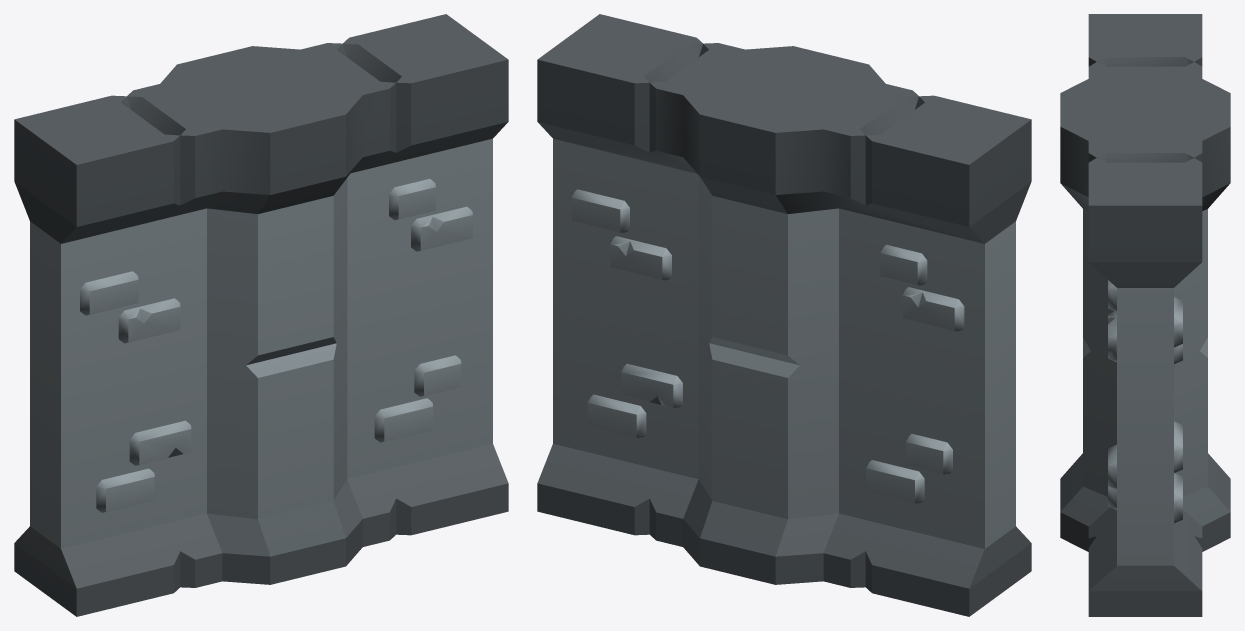
File: wall_pillar.gltf
3 renders of one model, left to right at view 1: azimuth 30°, elevation 25°; view 2: azimuth 150°, elevation 25°; view 3: azimuth 270°, elevation 25°, orthographic. The views are drawn at different scales.
Parts seen in each view (by area): view 1: wall_pillar; view 2: wall_pillar; view 3: wall_pillar.
Part boxes in pixels (x1,y1,x2,y2): wall_pillar: (14, 14, 508, 616); wall_pillar: (537, 14, 1031, 616); wall_pillar: (1060, 14, 1230, 616).
Bounding box in the file's own units: 4 × 4 × 1.5.
1 material, 1 textured.
